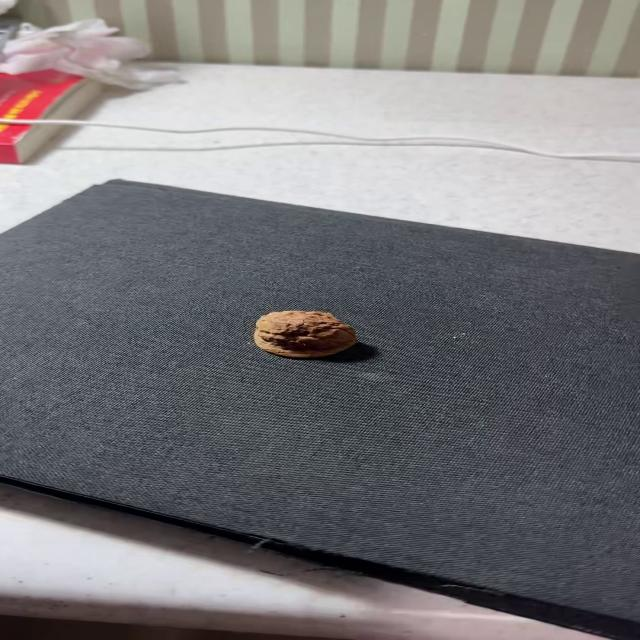nuts-bad0.25: (253, 311, 357, 359)
